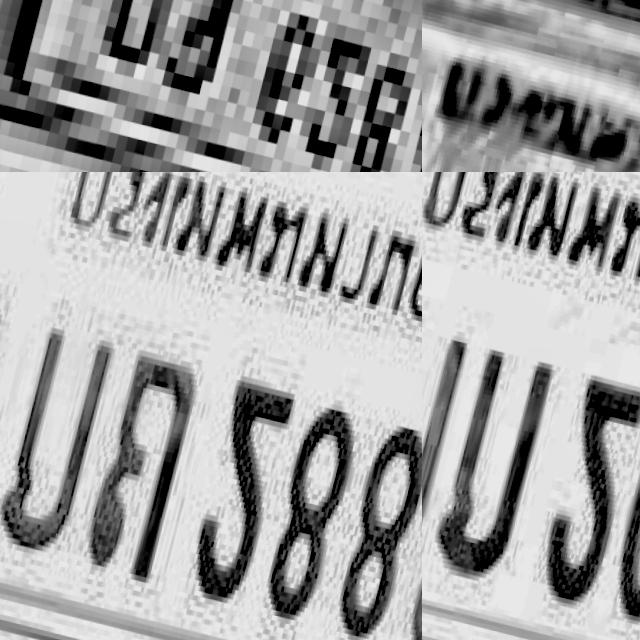license-plate: (0, 172, 422, 640), (422, 172, 640, 640), (0, 0, 422, 172), (422, 0, 640, 172)
